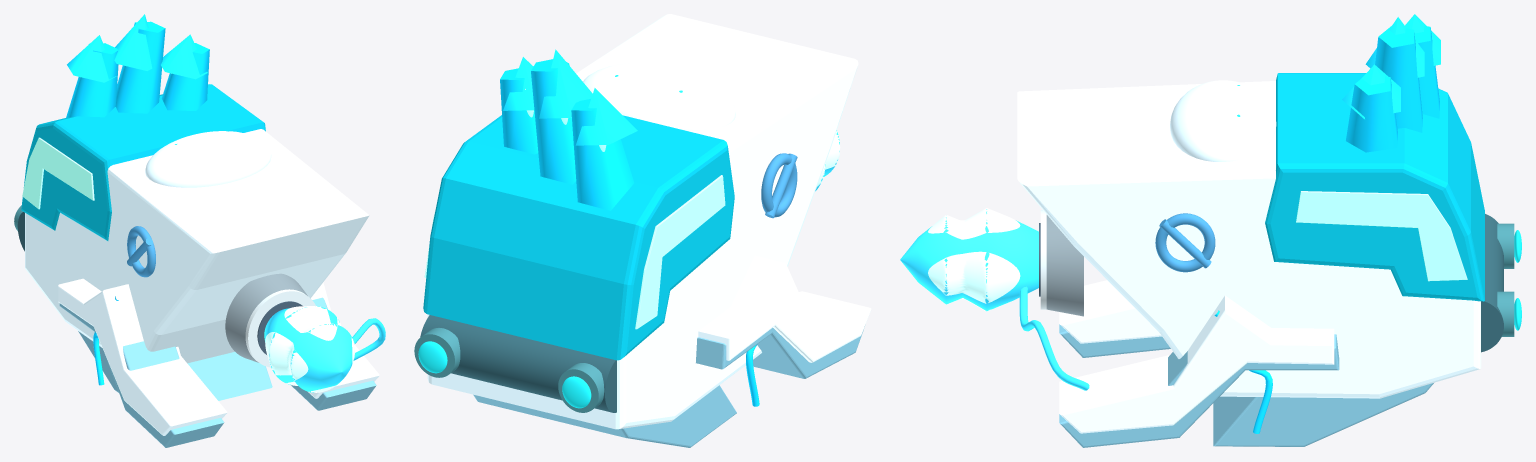
The model's file is ship-07.glb.
3 renders of one model, left to right at view 1: azimuth 30°, elevation 25°; view 2: azimuth 150°, elevation 25°; view 3: azimuth 270°, elevation 25°, orthographic. The views are drawn at different scales.
Parts seen in each view (by area): view 1: 디스커버리 M, engine-flame; view 2: 디스커버리 M, engine-flame; view 3: 디스커버리 M, engine-flame.
Part boxes in pixels (x1=…): 디스커버리 M: x1=14, y1=14, x2=385, y2=447; engine-flame: x1=264, y1=306, x2=354, y2=392; 디스커버리 M: x1=414, y1=14, x2=871, y2=447; engine-flame: x1=815, y1=130, x2=840, y2=191; 디스커버리 M: x1=1017, y1=14, x2=1521, y2=447; engine-flame: x1=900, y1=208, x2=1038, y2=311.
Size of the model in its own units: 15.89 by 23.64 by 33.28.
